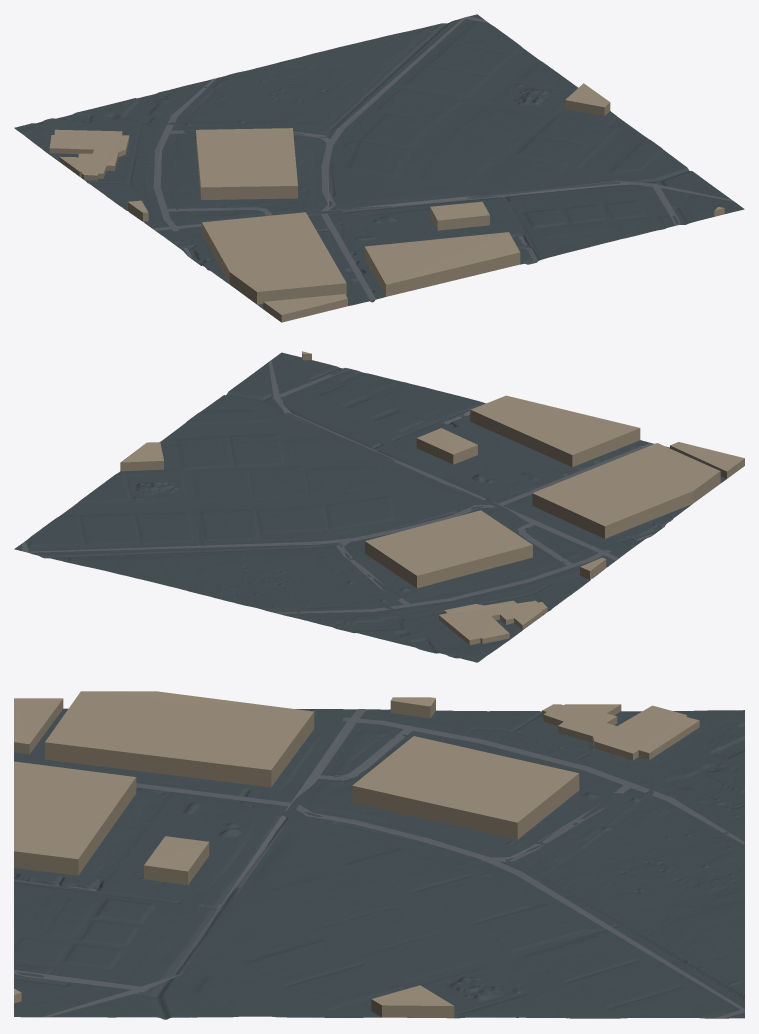
The model's file is epsg26910-1447-10872.lod0.glb.
3 views of the same model, one above another, from view 1: azimuth 30°, elevation 25°; view 2: azimuth 150°, elevation 25°; view 3: azimuth 270°, elevation 25° (orthographic). The views are drawn at different scales.
Parts seen in each view (by area): view 1: epsg26910-1447-10872-lod0; view 2: epsg26910-1447-10872-lod0; view 3: epsg26910-1447-10872-lod0.
Boxes of the visible parts, x1=… form: epsg26910-1447-10872-lod0: x1=14, y1=14, x2=744, y2=322; epsg26910-1447-10872-lod0: x1=14, y1=351, x2=744, y2=662; epsg26910-1447-10872-lod0: x1=14, y1=691, x2=744, y2=1019.
Bounding box in the file's own units: 384 × 12.13 × 384.
